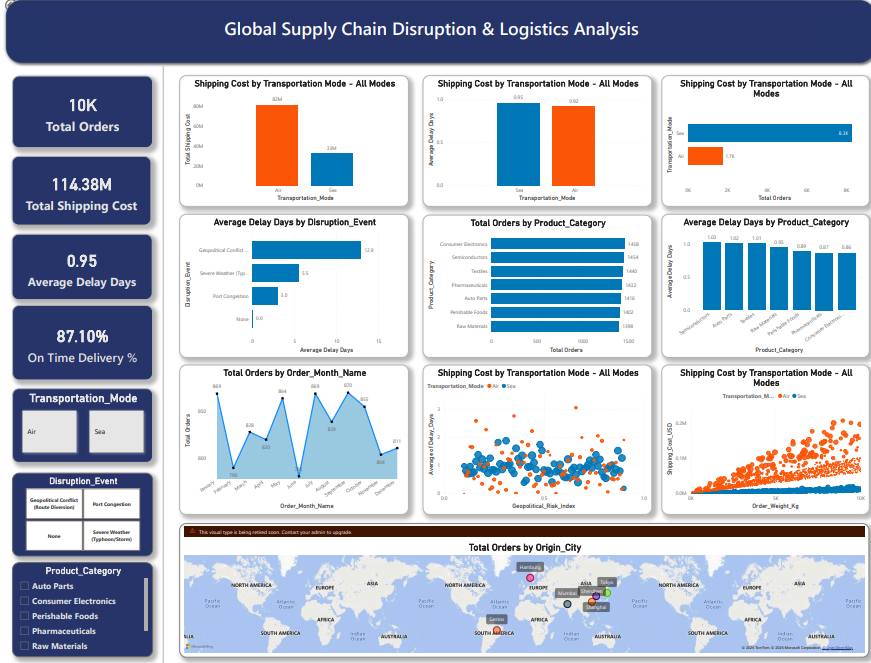

This screenshot's page, from the dashboard's own definition file:
{"tool":"powerbi","page":{"name":"Page 1","canvas":[2100,1600],"ordinal":0},"visuals":[{"type":"card","fields":{"Values":["supplychain.Total Orders"]},"box":[21.8,188.5,338.4,174],"z":0},{"type":"card","fields":{"Values":["supplychain.Total Shipping Cost"]},"box":[20.5,382.1,335.9,166.7],"z":1},{"type":"card","fields":{"Values":["supplychain.Average Delay Days"]},"box":[20.5,569.2,338.5,159],"z":2},{"type":"card","fields":{"Values":["supplychain.On Time Delivery %"]},"box":[21.8,739.6,338.4,181.3],"z":3},{"type":"clusteredBarChart","fields":{"Category":["supplychain.Transportation_Mode"],"Y":["supplychain.Total Orders"]},"box":[1579.9,188.4,500.3,316],"z":4},{"type":"clusteredColumnChart","fields":{"Category":["supplychain.Transportation_Mode"],"Y":["supplychain.Total Shipping Cost"]},"box":[423.3,188.4,550.9,316],"z":5},{"type":"clusteredColumnChart","fields":{"Category":["supplychain.Transportation_Mode"],"Y":["supplychain.Average Delay Days"]},"box":[1006.7,188.4,550.9,316],"z":6},{"type":"clusteredBarChart","fields":{"Category":["supplychain.Disruption_Event"],"Y":["supplychain.Average Delay Days"]},"box":[423.3,520.5,550.9,346.4],"z":7},{"type":"clusteredBarChart","fields":{"Category":["supplychain.Product_Category"],"Y":["supplychain.Total Orders"]},"box":[1006.7,522.6,550.9,344.3],"z":8},{"type":"clusteredColumnChart","fields":{"Category":["supplychain.Product_Category"],"Y":["supplychain.Average Delay Days"]},"box":[1579.9,520.5,500.3,346.4],"z":9},{"type":"lineChart","fields":{"Category":["supplychain.Order_Month_Name"],"Y":["supplychain.Total Orders"]},"box":[423.3,883.1,550.9,360.5],"z":10},{"type":"scatterChart","fields":{"X":["supplychain.Geopolitical_Risk_Index"],"Y":["Avg(supplychain.Delay_Days)"],"Series":["supplychain.Transportation_Mode"],"Size":["CountNonNull(supplychain.Shipping_Cost_USD)"]},"box":[1006.7,883.1,550.9,360.5],"z":11},{"type":"scatterChart","fields":{"X":["supplychain.Order_Weight_Kg"],"Y":["supplychain.Shipping_Cost_USD"],"Size":["Avg(supplychain.Delay_Days)"],"Series":["supplychain.Transportation_Mode"]},"box":[1579.9,883.1,500.3,360.5],"z":12},{"type":"actionButton","box":[0,0,100,40],"z":13},{"type":"advancedSlicerVisual","fields":{"Values":["supplychain.Transportation_Mode"]},"box":[21.8,940.3,338.4,178.9],"z":14},{"type":"slicer","title":"Product_Category","fields":{"Values":["supplychain.Product_Category"]},"box":[22,1358,338,228],"z":15},{"type":"slicer","title":"Disruption_Event","fields":{"Values":["supplychain.Disruption_Event"]},"box":[21.8,1143.3,338.4,200.6],"z":16},{"type":"map","fields":{"Category":["supplychain.Origin_City"],"Size":["supplychain.Total Orders"]},"box":[423.1,1264.1,1656.4,323.1],"z":18},{"type":"shape","box":[0,0,2100.4,166.1],"z":19},{"type":"textbox","box":[126.1,40.8,1805.6,78.1],"z":20},{"type":"shape","box":[263.3,166.1,243.1,1434],"z":21}]}

Visuals, with their boxes in screenshot pixels (x1, y1, x2, y2), scaled from the page's 2100x1600 canvas onto the 871x663 screenshot:
card - supplychain.Total Orders: x1=9 y1=78 x2=149 y2=150
card - supplychain.Total Shipping Cost: x1=9 y1=158 x2=148 y2=227
card - supplychain.Average Delay Days: x1=9 y1=236 x2=149 y2=302
card - supplychain.On Time Delivery %: x1=9 y1=306 x2=149 y2=382
clusteredBarChart - supplychain.Transportation_Mode x supplychain.Total Orders: x1=655 y1=78 x2=863 y2=209
clusteredColumnChart - supplychain.Transportation_Mode x supplychain.Total Shipping Cost: x1=176 y1=78 x2=404 y2=209
clusteredColumnChart - supplychain.Transportation_Mode x supplychain.Average Delay Days: x1=418 y1=78 x2=646 y2=209
clusteredBarChart - supplychain.Disruption_Event x supplychain.Average Delay Days: x1=176 y1=216 x2=404 y2=359
clusteredBarChart - supplychain.Product_Category x supplychain.Total Orders: x1=418 y1=217 x2=646 y2=359
clusteredColumnChart - supplychain.Product_Category x supplychain.Average Delay Days: x1=655 y1=216 x2=863 y2=359
lineChart - supplychain.Order_Month_Name x supplychain.Total Orders: x1=176 y1=366 x2=404 y2=515
scatterChart - supplychain.Geopolitical_Risk_Index x Avg(supplychain.Delay_Days): x1=418 y1=366 x2=646 y2=515
scatterChart - supplychain.Order_Weight_Kg x supplychain.Shipping_Cost_USD: x1=655 y1=366 x2=863 y2=515
actionButton: x1=0 y1=0 x2=41 y2=17
advancedSlicerVisual - supplychain.Transportation_Mode: x1=9 y1=390 x2=149 y2=464
"Product_Category" slicer: x1=9 y1=563 x2=149 y2=657
"Disruption_Event" slicer: x1=9 y1=474 x2=149 y2=557
map - supplychain.Origin_City x supplychain.Total Orders: x1=175 y1=524 x2=862 y2=658
shape: x1=0 y1=0 x2=870 y2=69
textbox: x1=52 y1=17 x2=801 y2=49
shape: x1=109 y1=69 x2=210 y2=662
